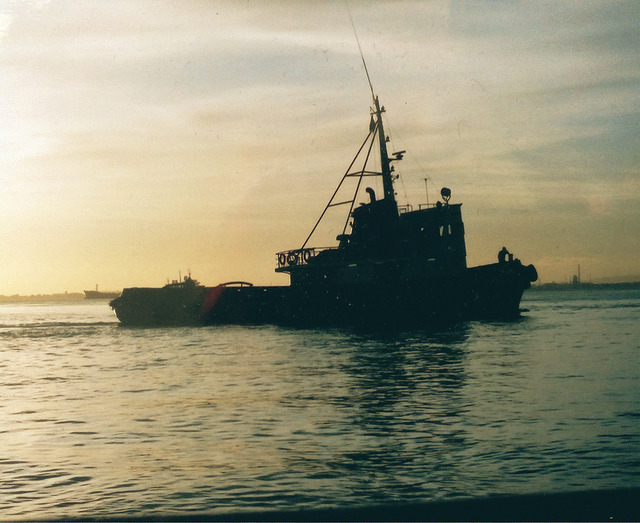tug_boat: (116, 116, 549, 325)
